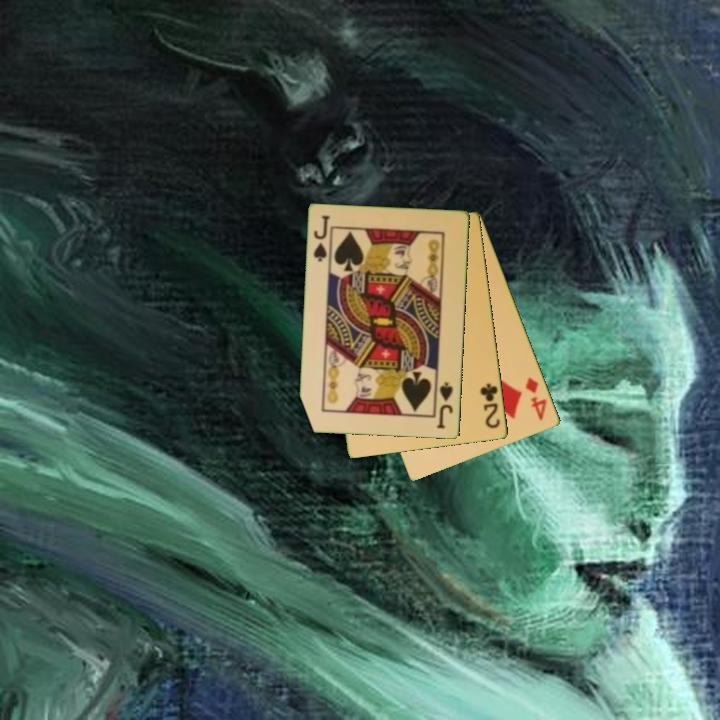2c: (477, 380, 503, 431)
4d: (522, 374, 550, 424)
Js: (310, 212, 333, 265), (434, 379, 456, 432)
